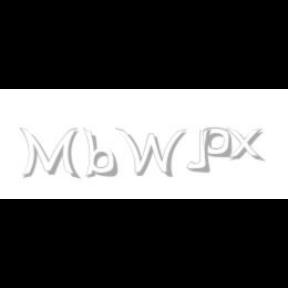J: (186, 128, 210, 172)
M: (20, 128, 78, 180)
W: (115, 128, 187, 178)
b: (83, 128, 121, 178)
o: (202, 128, 232, 158)
x: (226, 128, 268, 162)
